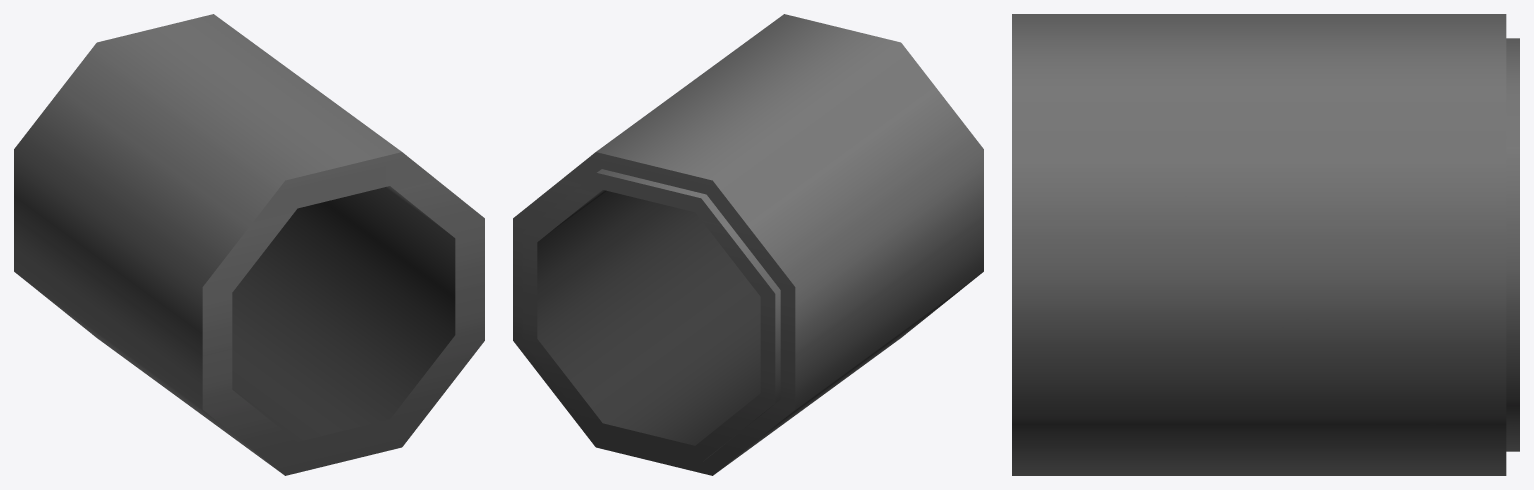
The model's file is Pipe_C_4_1.fbx.
3 renders of one model, left to right at view 1: azimuth 30°, elevation 25°; view 2: azimuth 150°, elevation 25°; view 3: azimuth 270°, elevation 25°, orthographic. The views are drawn at different scales.
Parts seen in each view (by area): view 1: Pipe_C_4_1; view 2: Pipe_C_4_1; view 3: Pipe_C_4_1.
Boxes of the visible parts, <box> form: Pipe_C_4_1: <box>14,14,484,475</box>; Pipe_C_4_1: <box>513,14,983,475</box>; Pipe_C_4_1: <box>1012,14,1519,475</box>.
Size of the model in its own units: 114 by 114 by 136.
